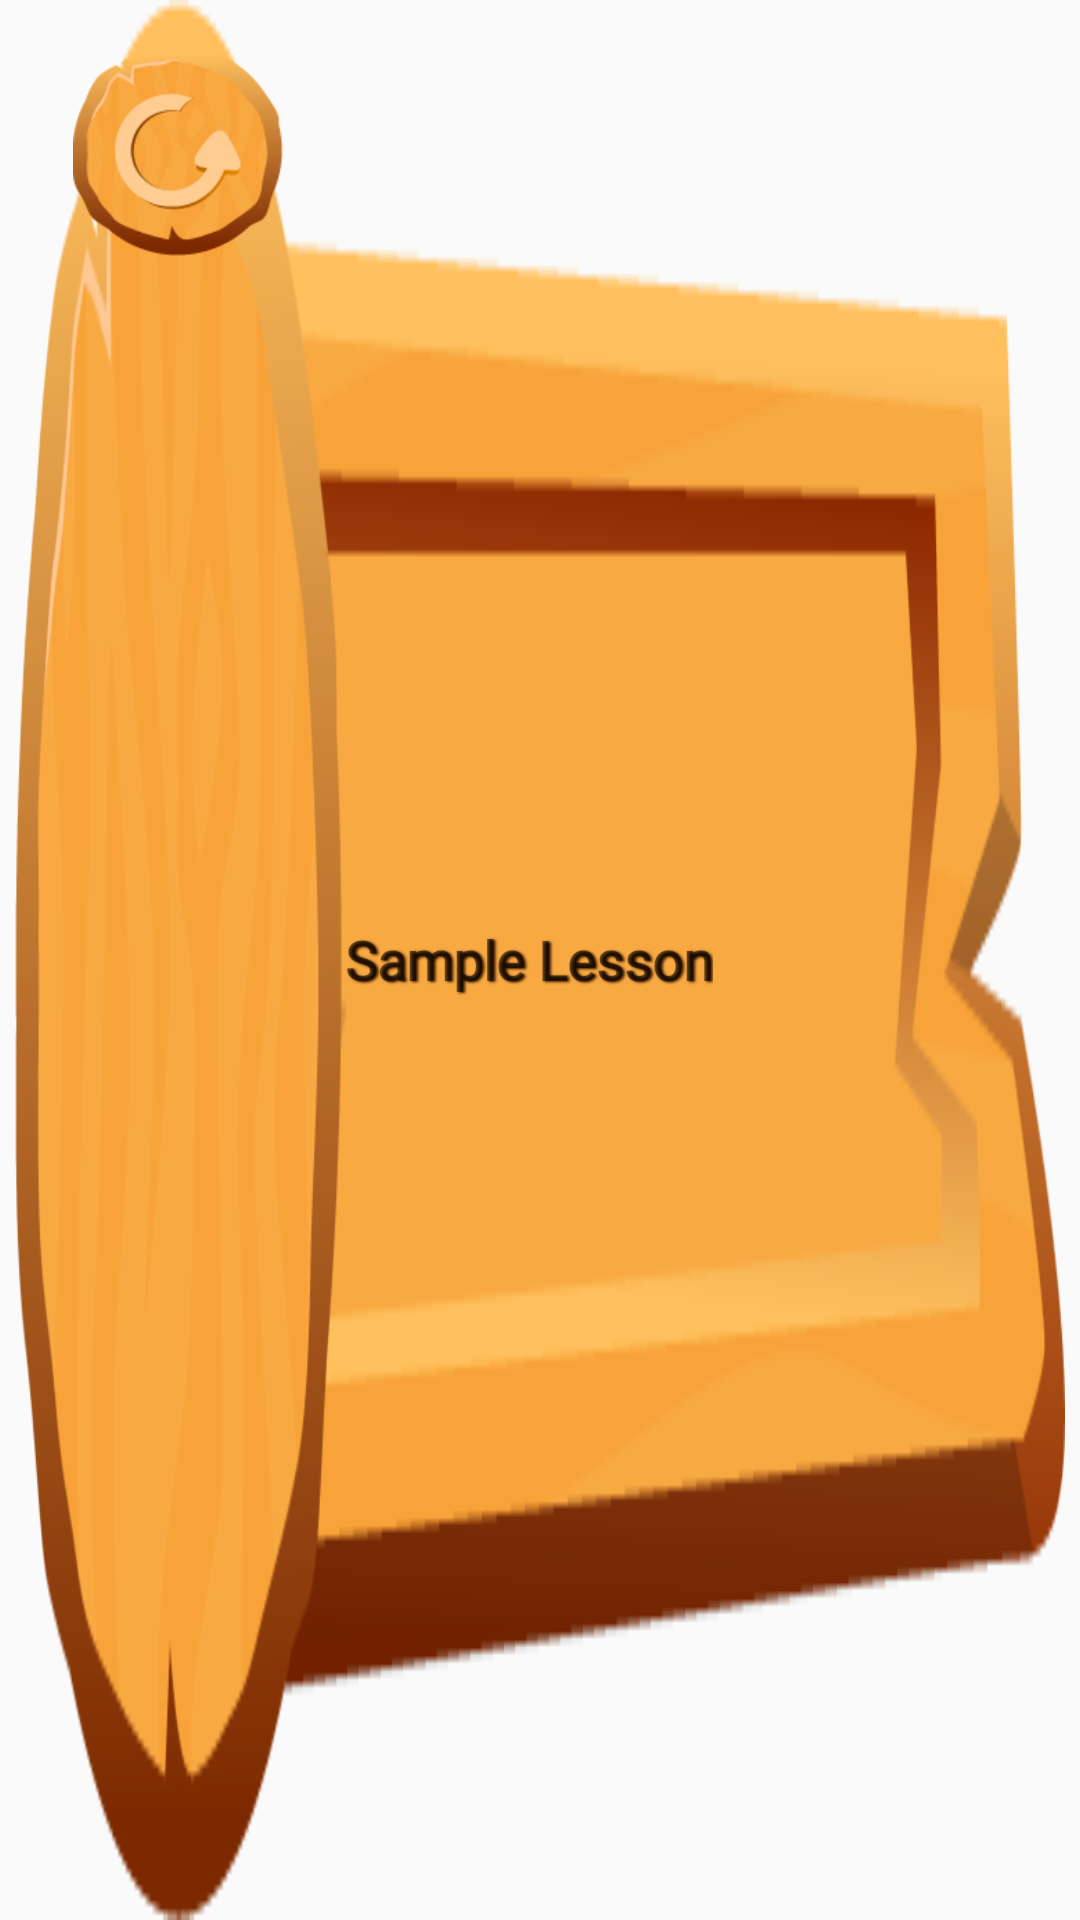

Icon click points for this 1080×1920 phone screenshot, format (x=x, y=y):
retry: (x=178, y=151)
